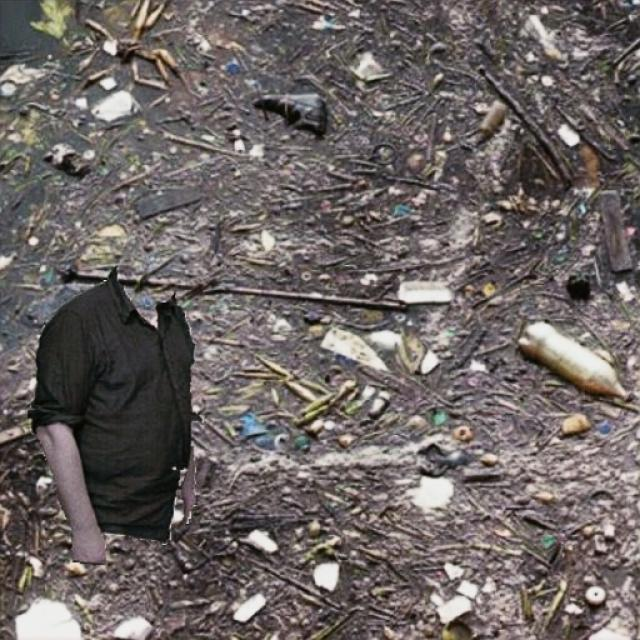Person in Rubble: (28, 265, 202, 564)
